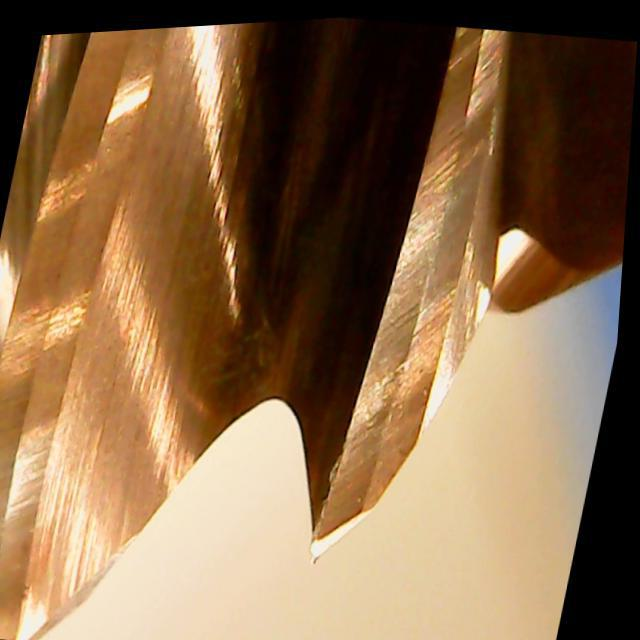Tool-wear-class-0: (289, 194, 509, 583)
